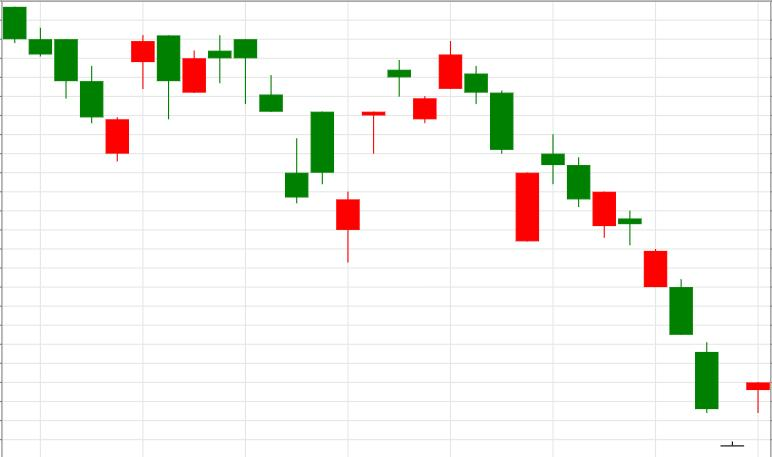inverse_hammer_rise: (208, 36, 308, 203)
